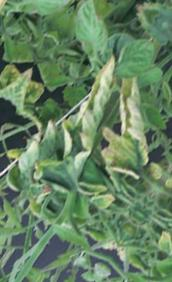Tomato leaf yellow virus: (78, 72, 172, 182), (57, 0, 122, 66), (105, 28, 165, 92), (2, 58, 55, 123), (169, 45, 172, 96)
